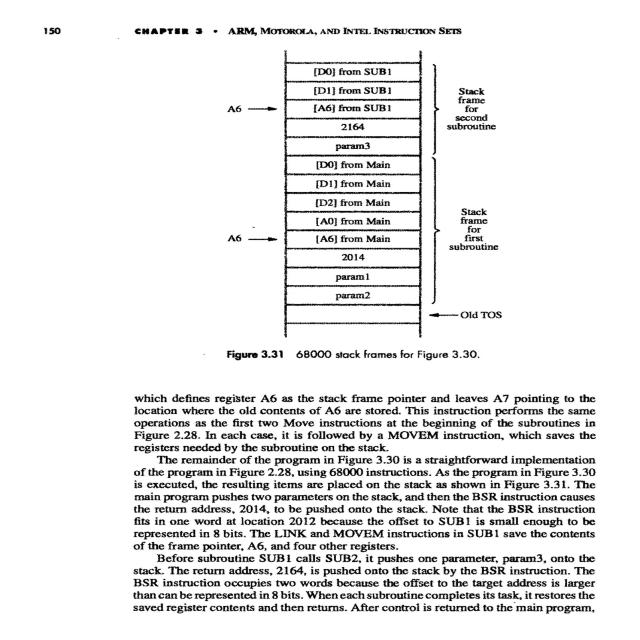diagram: (174, 45, 546, 379), (170, 49, 542, 371), (226, 260, 230, 262)
